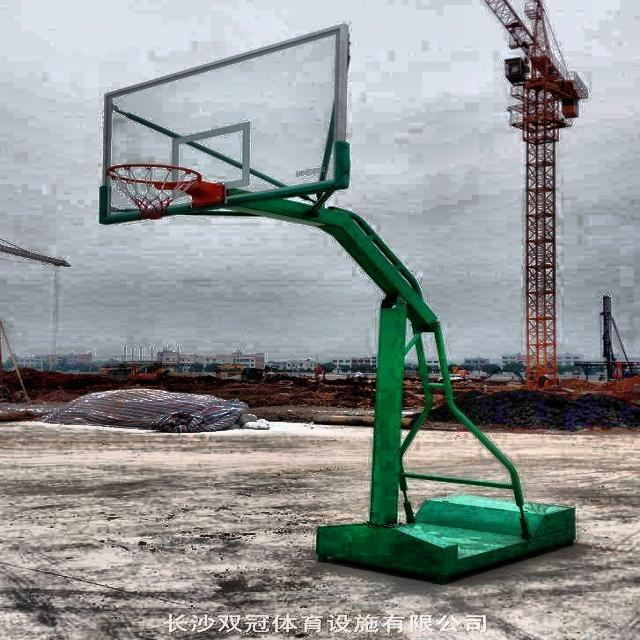rim: (106, 162, 204, 220)
